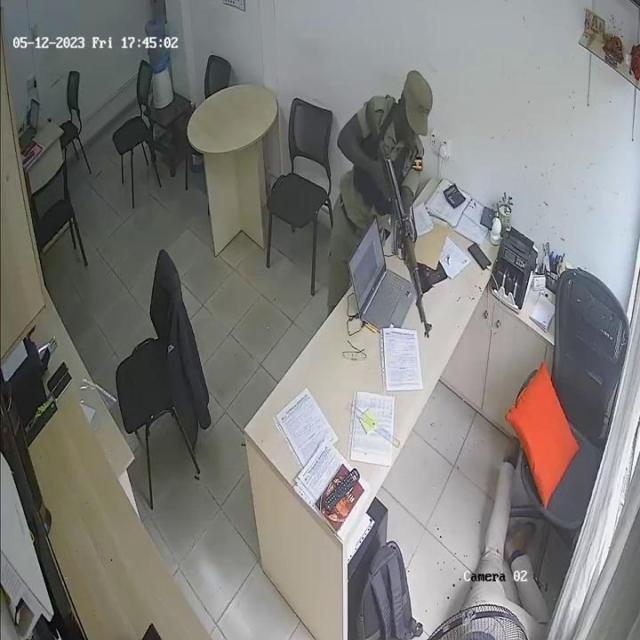pistol: (362, 100, 434, 338)
